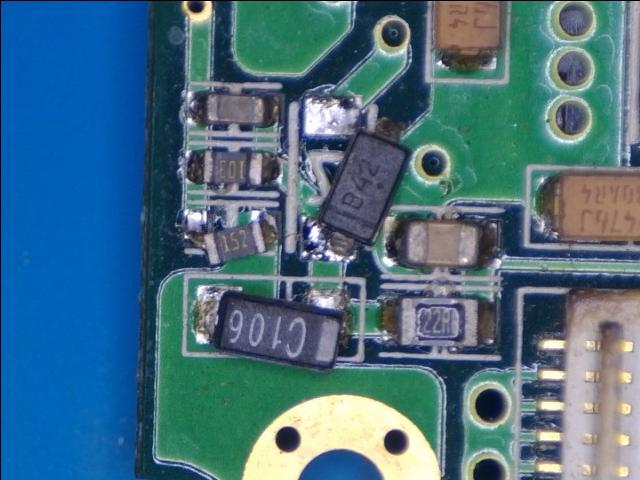Incorrect_installation: (299, 96, 411, 262), (195, 286, 351, 370), (184, 208, 278, 266)
